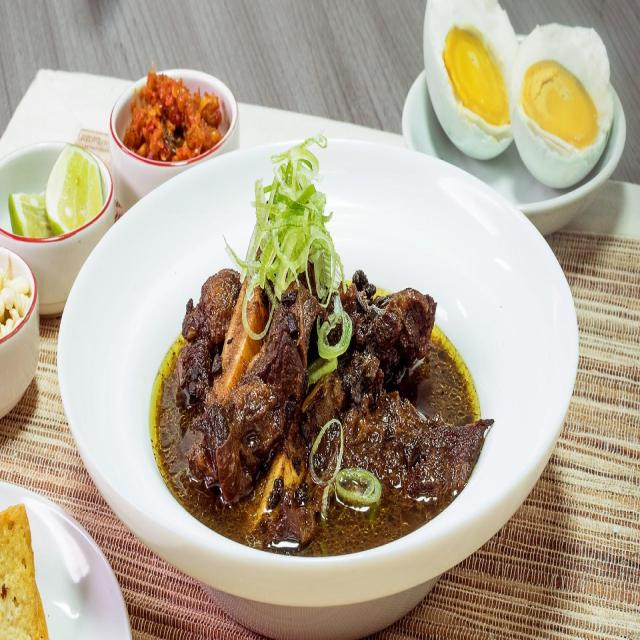Rawon: (144, 212, 478, 536)
